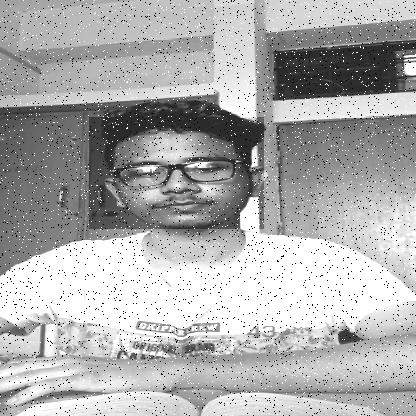Normal: (89, 117, 264, 229)
